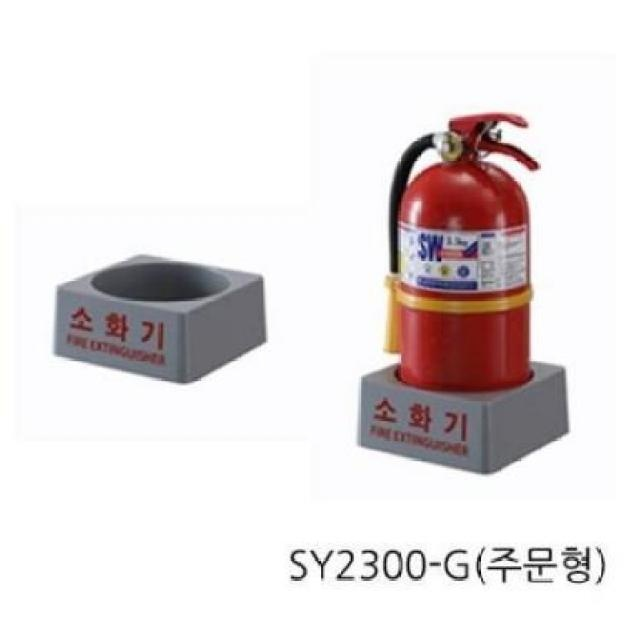fire extinguisher: (382, 112, 541, 392)
